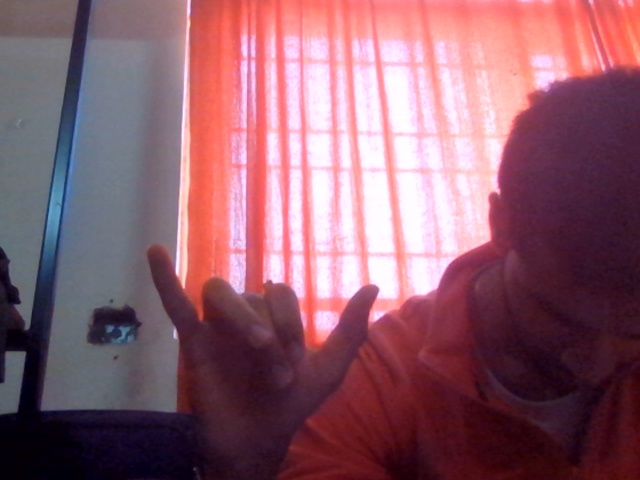Y: (109, 211, 393, 471)
